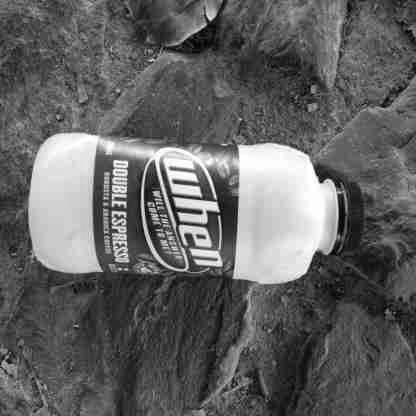plastic: (28, 125, 375, 287)
